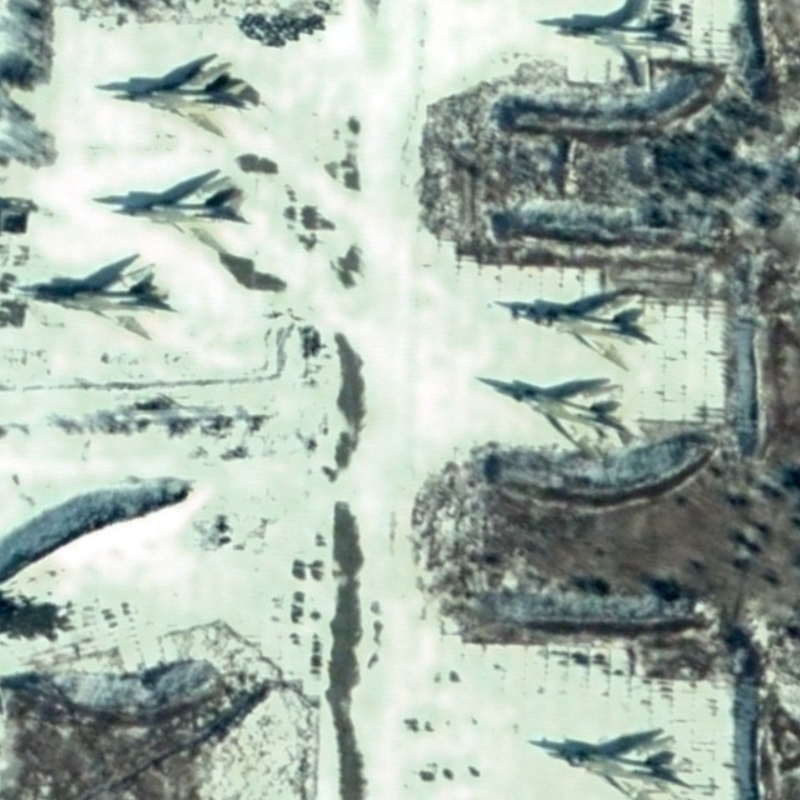A12: (501, 281, 655, 375), (109, 53, 262, 141), (29, 258, 180, 341), (549, 1, 687, 90), (495, 378, 631, 466), (108, 168, 252, 251), (550, 733, 695, 800)
